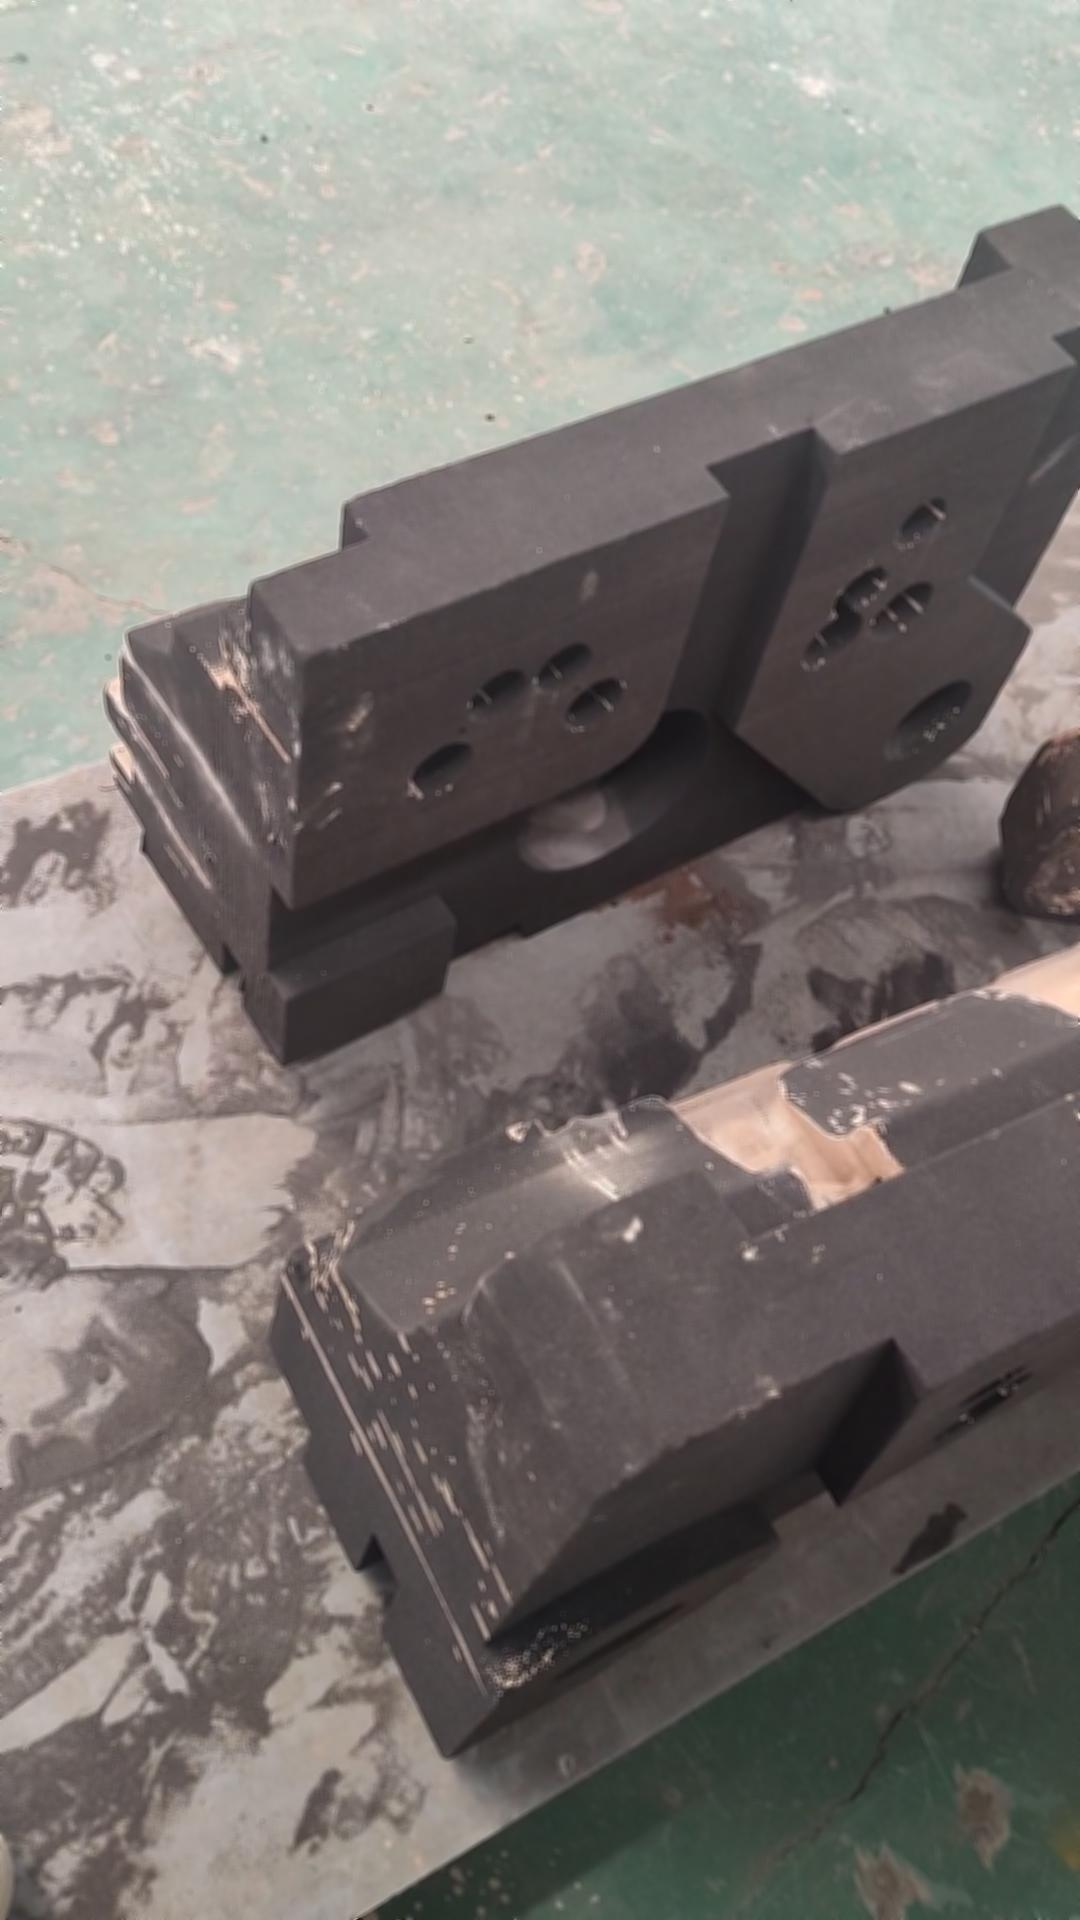pouring hole: (549, 1600, 687, 1681), (884, 680, 971, 761)
